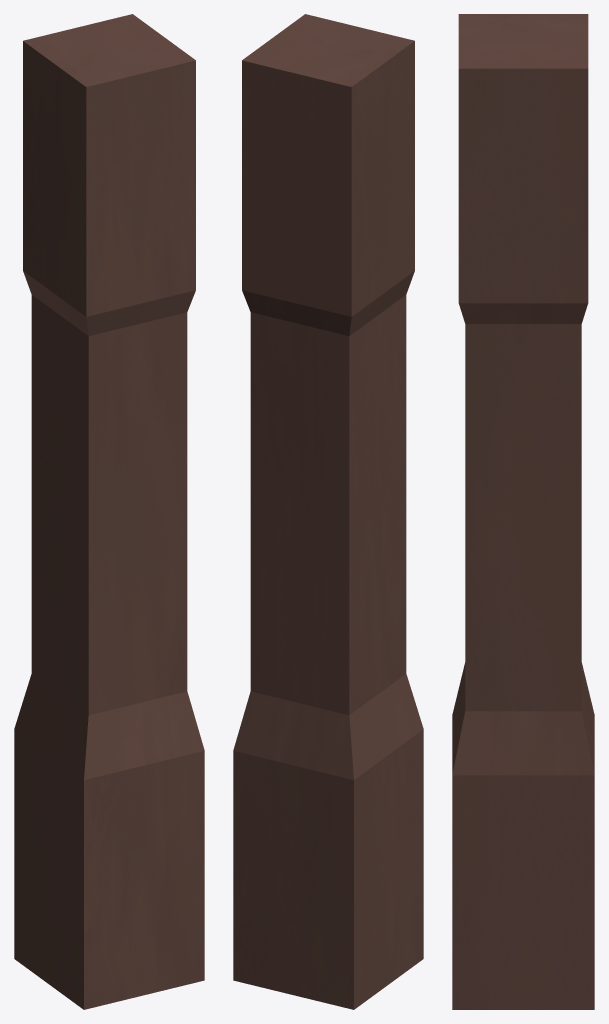
The model's file is PILLAR.fbx.
The picture shows the model from 3 angles, left to right: view 1: azimuth 30°, elevation 25°; view 2: azimuth 150°, elevation 25°; view 3: azimuth 270°, elevation 25°; orthographic projection. The views are drawn at different scales.
Parts seen in each view (by area): view 1: Cube; view 2: Cube; view 3: Cube.
Part boxes in pixels (x1,y1,x2,y2): Cube: (14, 14, 204, 1009); Cube: (233, 14, 423, 1009); Cube: (452, 14, 594, 1009).
Size of the model in its own units: 220 by 1600 by 220.
